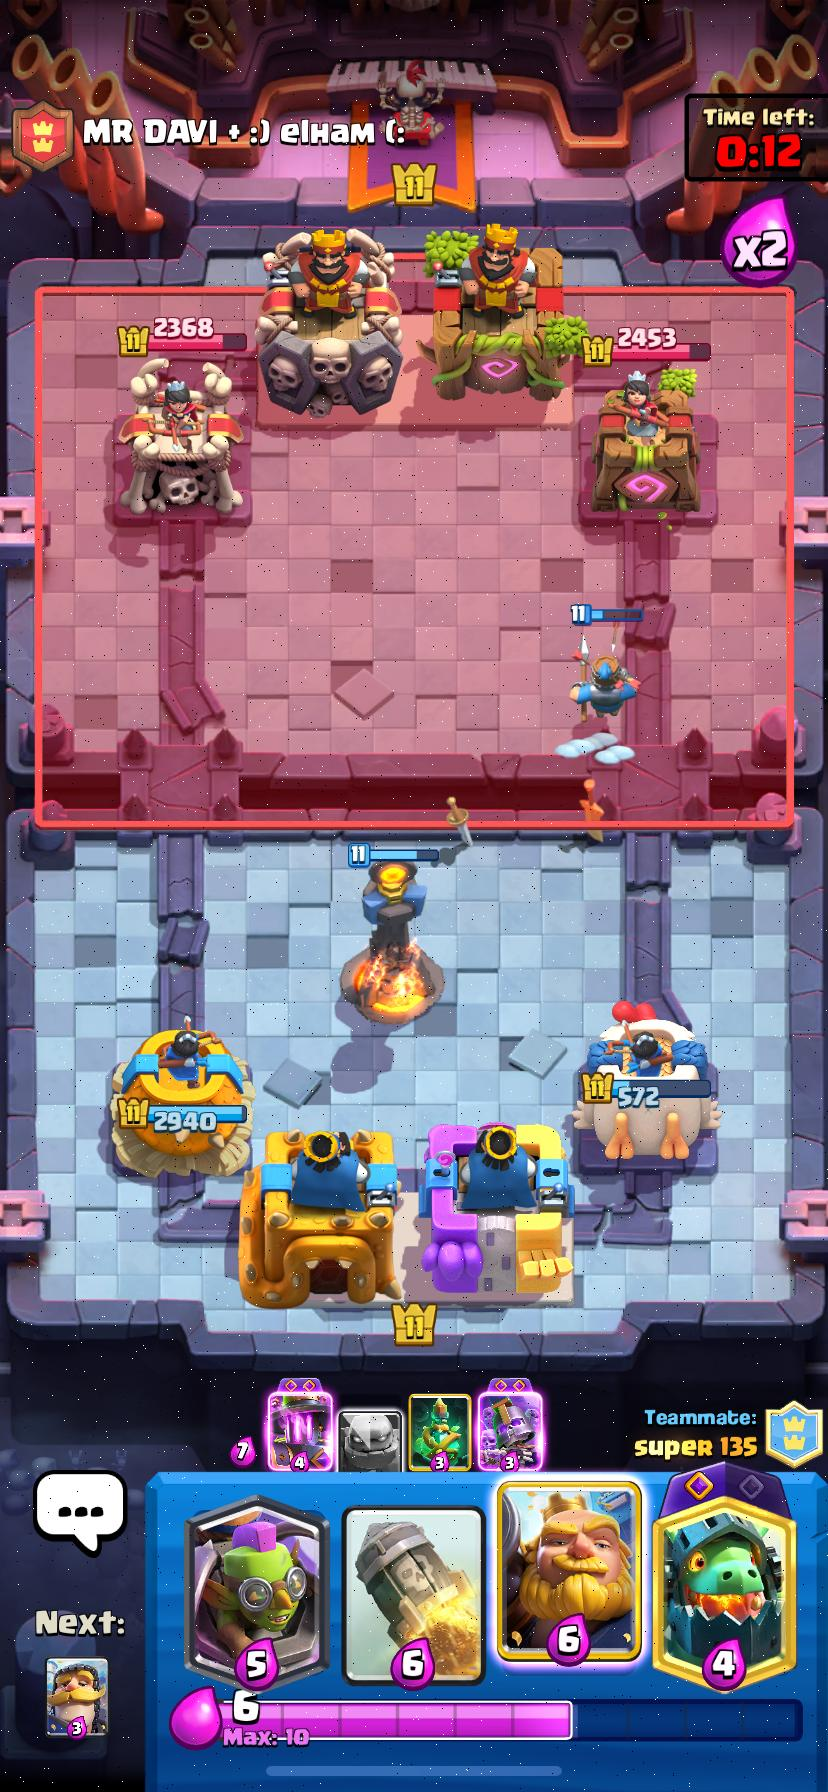EKingTower: (255, 229, 401, 417), (425, 224, 578, 401)
EnemyPrincessTower: (118, 357, 242, 514), (591, 368, 699, 511)
OInfernoTower: (341, 859, 444, 1025)
ORoyalR: (570, 645, 638, 717)
OwnKingTower: (240, 1130, 403, 1305), (421, 1123, 573, 1299)
OwnPrincessTower: (112, 1018, 255, 1174), (576, 1003, 719, 1159)
